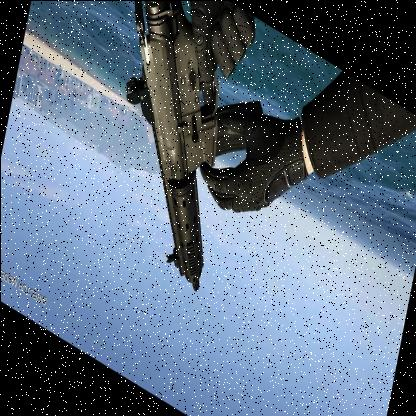rifle: (68, 0, 272, 320)
